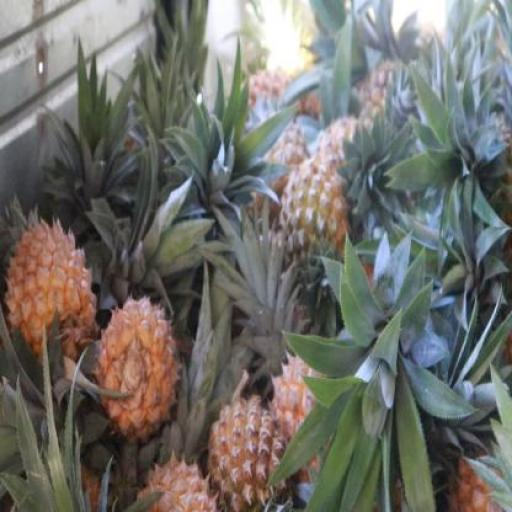Pineapple - v8 v1: (6, 217, 96, 364), (96, 294, 174, 428), (207, 388, 284, 512)
